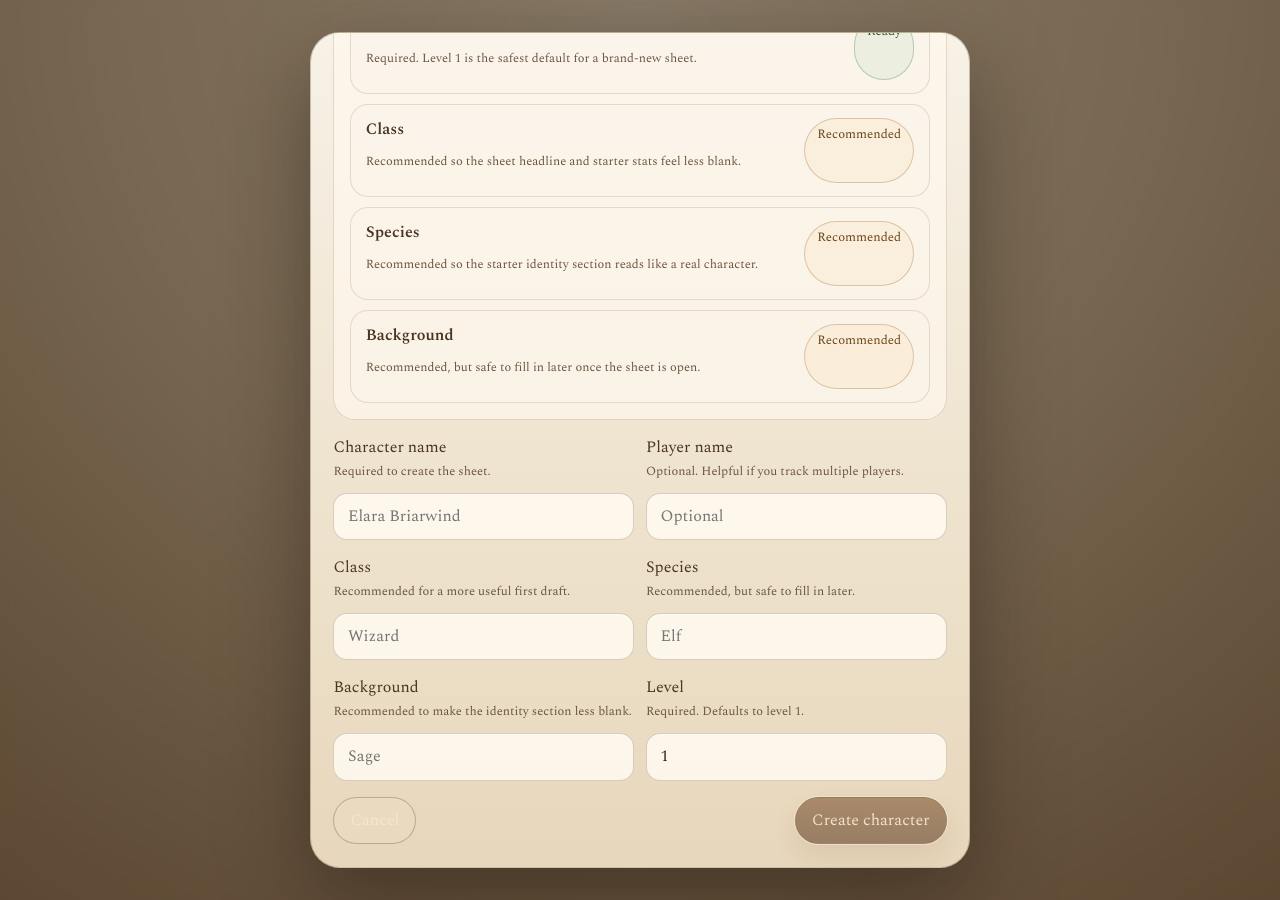
Scenario: CreateCharacterDialog › shows guided progress and enables creation after the required step is complete
(page scrolled)
Check: the button "Create character" is disabled, box [795, 797, 947, 844]
Type "Iris Vale" into the field labelled "Character name Required to create the sheet." at [484, 516], box [333, 492, 634, 540]
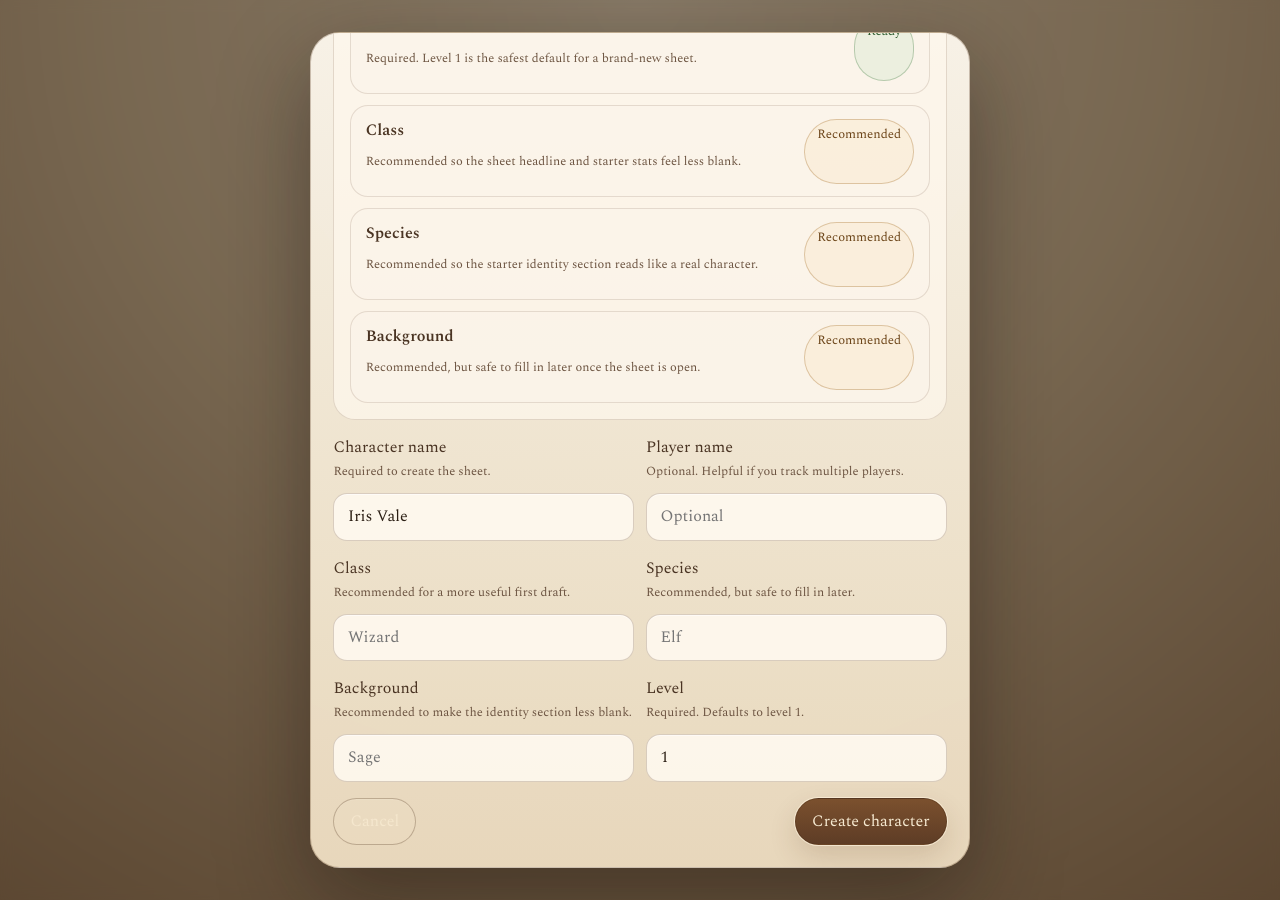
Check: the button "Create character" is enabled, box [795, 798, 947, 845]
